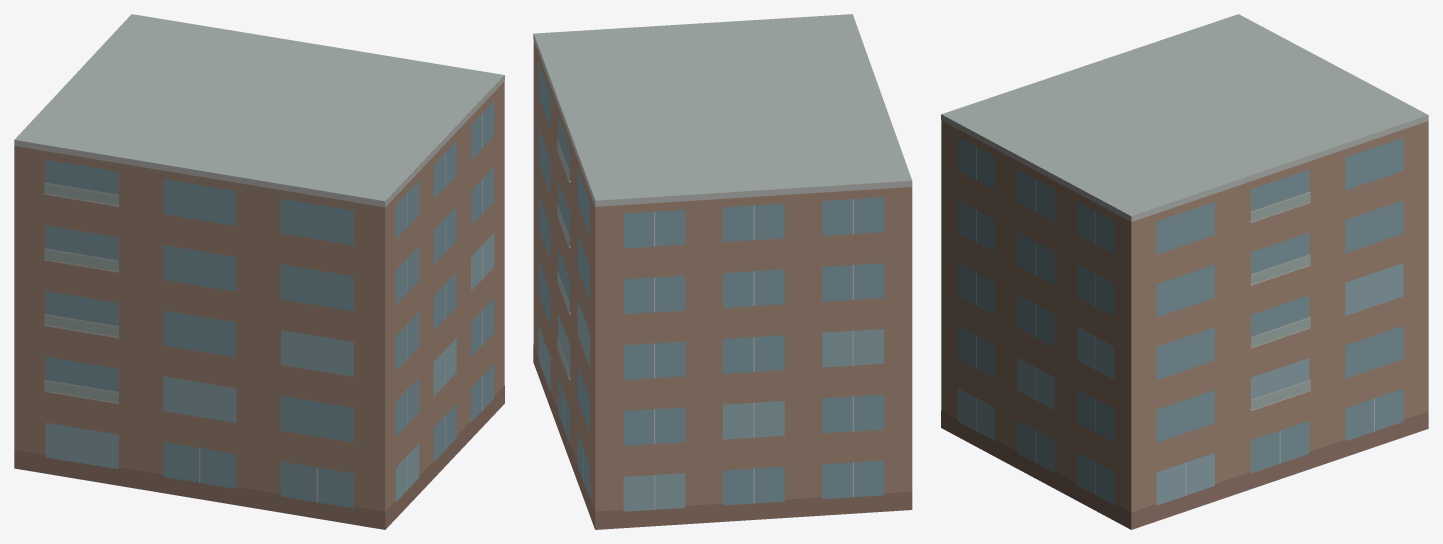
Rendered from survey-upis-33005232.glb.
3 renders of one model, left to right at view 1: azimuth 30°, elevation 25°; view 2: azimuth 150°, elevation 25°; view 3: azimuth 270°, elevation 25°, orthographic. The views are drawn at different scales.
Parts seen in each view (by area): view 1: survey-upis-33005232.tmp; view 2: survey-upis-33005232.tmp; view 3: survey-upis-33005232.tmp.
Boxes of the visible parts, bbox=[...] form: survey-upis-33005232.tmp: bbox=[14, 14, 504, 529]; survey-upis-33005232.tmp: bbox=[533, 14, 912, 529]; survey-upis-33005232.tmp: bbox=[941, 14, 1428, 529].
Bounding box in the file's own units: 18.27 × 13.2 × 18.6.
